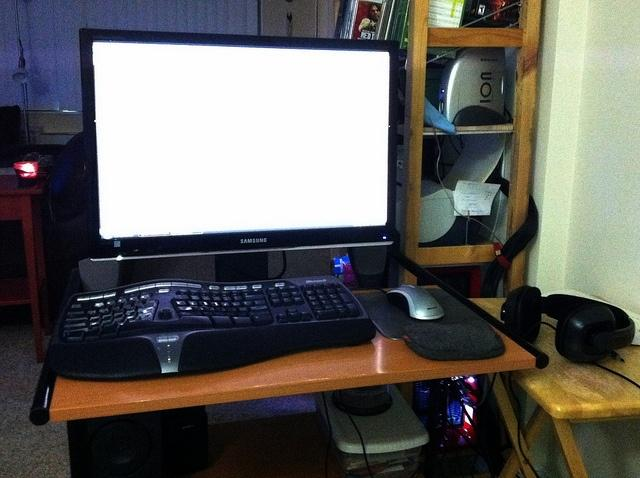AIO PC-Monitor-TV: (75, 26, 399, 263)
